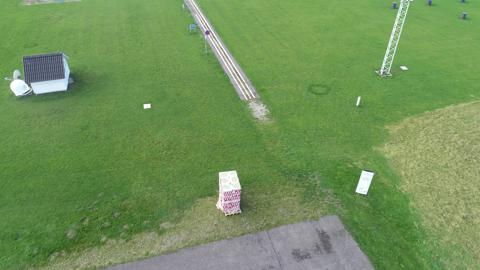RockwoolPallet: (217, 169, 242, 215)
